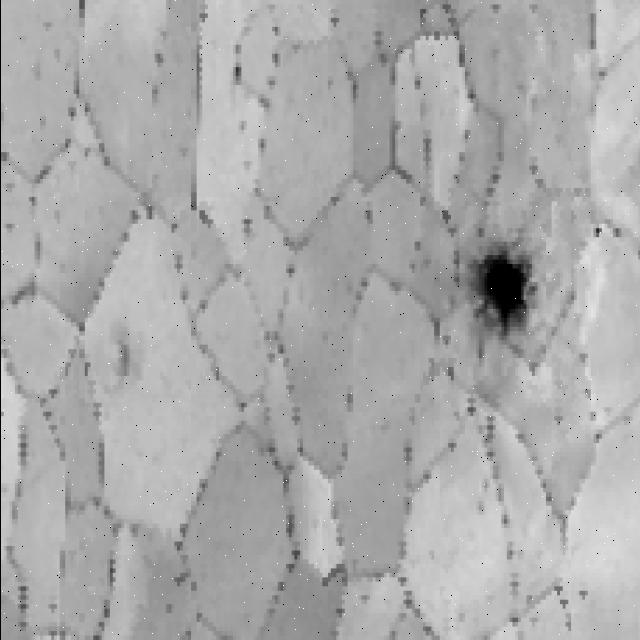good_void: (465, 238, 539, 367), (101, 313, 148, 407)
